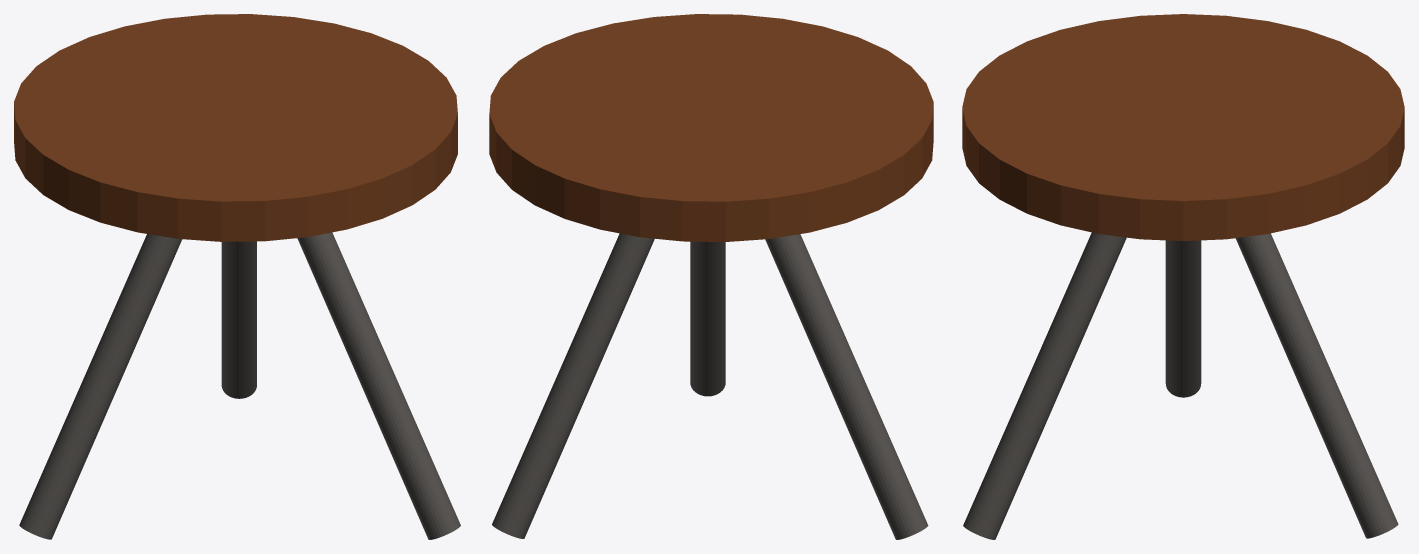
Rendered from stool.fbx.
The picture shows the model from 3 angles, left to right: view 1: azimuth 30°, elevation 25°; view 2: azimuth 150°, elevation 25°; view 3: azimuth 270°, elevation 25°; orthographic projection.
Visible parts, largest first — view 1: Cylinder.001; view 2: Cylinder.001; view 3: Cylinder.001.
Part boxes in pixels (x1,y1,x2,y2): Cylinder.001: (14,14,460,539); Cylinder.001: (489,14,933,539); Cylinder.001: (962,14,1404,539).
Size of the model in its own units: 47.5 by 42.71 by 45.
